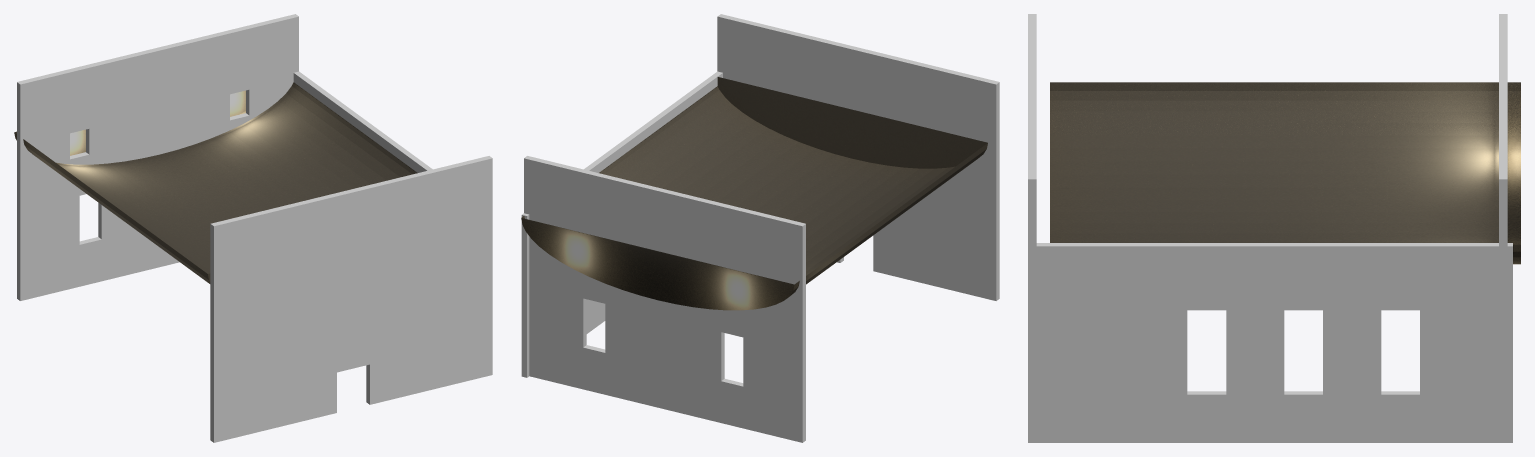
The model's file is church-baked.glb.
3 views of the same model, side by side, from view 1: azimuth 30°, elevation 25°; view 2: azimuth 150°, elevation 25°; view 3: azimuth 270°, elevation 25° (orthographic). The views are drawn at different scales.
Visible parts, largest first — view 1: Shell, Ceiling; view 2: Shell, Ceiling; view 3: Shell, Ceiling.
Boxes of the visible parts, left/top/right/bottom form: Shell: left=17, top=14, right=492, bottom=442; Ceiling: left=14, top=82, right=417, bottom=283; Shell: left=521, top=14, right=999, bottom=442; Ceiling: left=521, top=77, right=987, bottom=310; Shell: left=1028, top=14, right=1512, bottom=442; Ceiling: left=1050, top=82, right=1520, bottom=264.
Bounding box in the file's own units: 10.1 × 7.5 × 12.71.
Materials: 1 (1 with a texture image).
